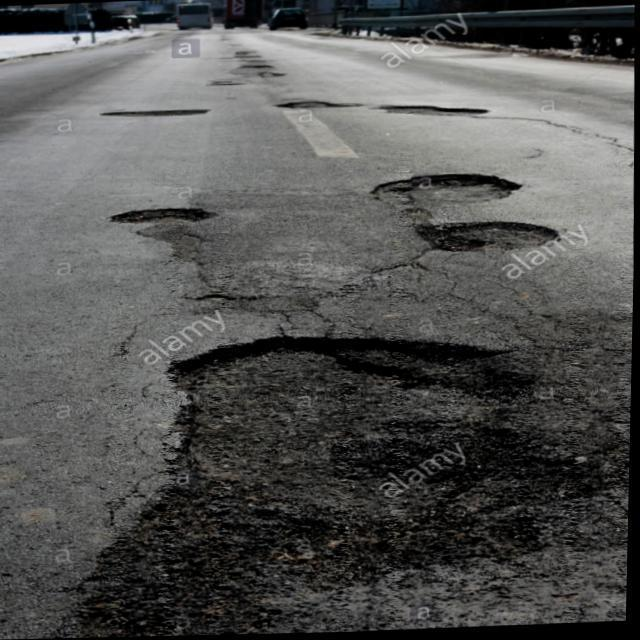Pothole: (56, 336, 609, 639), (417, 218, 554, 255), (374, 175, 519, 206), (112, 208, 220, 232), (379, 103, 487, 119), (97, 106, 210, 121)
